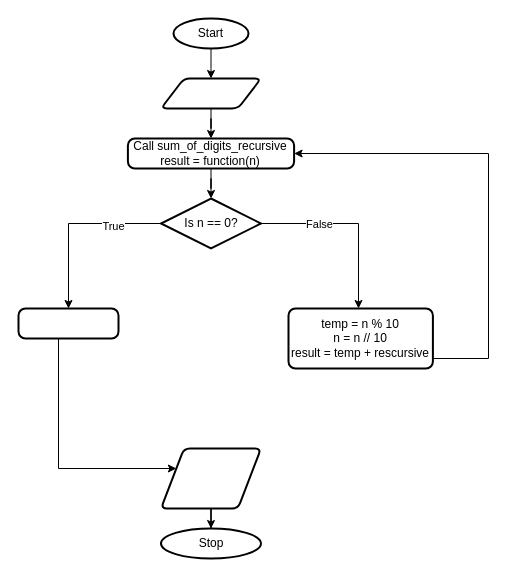
The diagram is 514 pixels wide and 576 high, and some of its shapes have lost their labels. Each missing label, with the centre of its shape:
print result: point 211,478
Read n: point 211,93
Return 0: point 68,323
